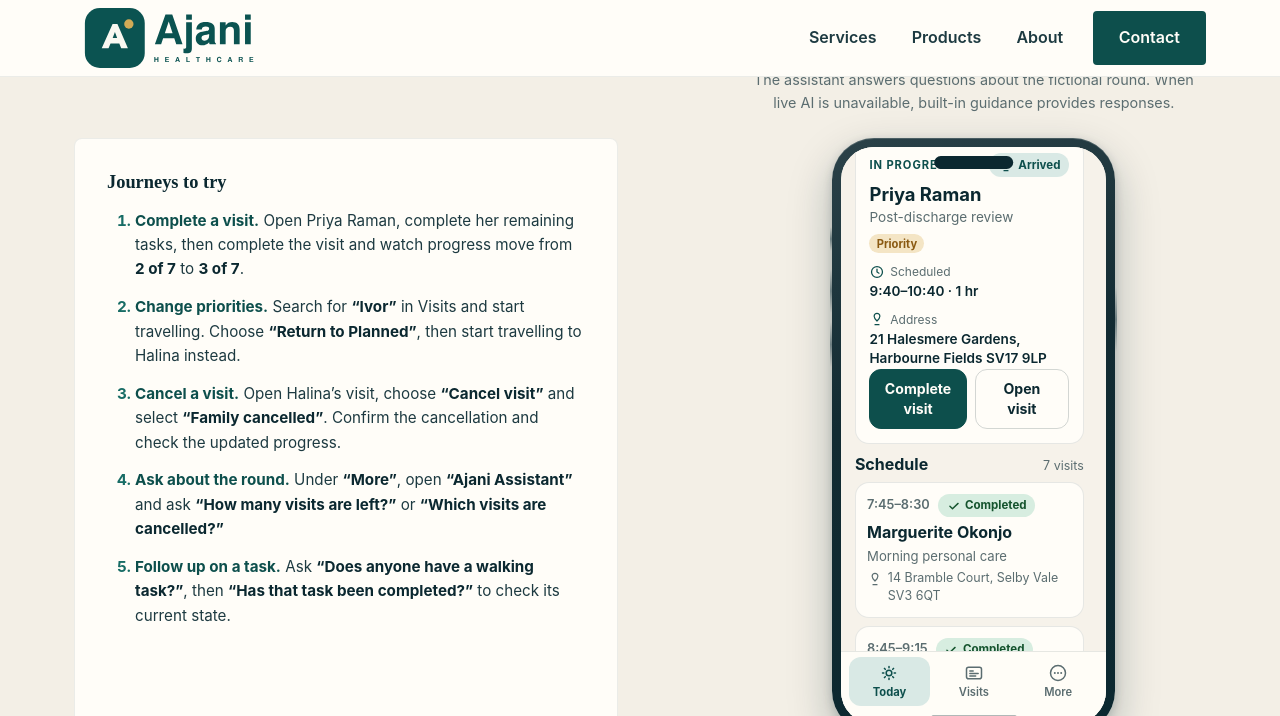
Test case: visit detail › shows the reference, times, travel, location and notes
(page scrolled)
Click the button "Open visit".
click(1022, 399)  # box [975,369,1069,429]
(page scrolled)
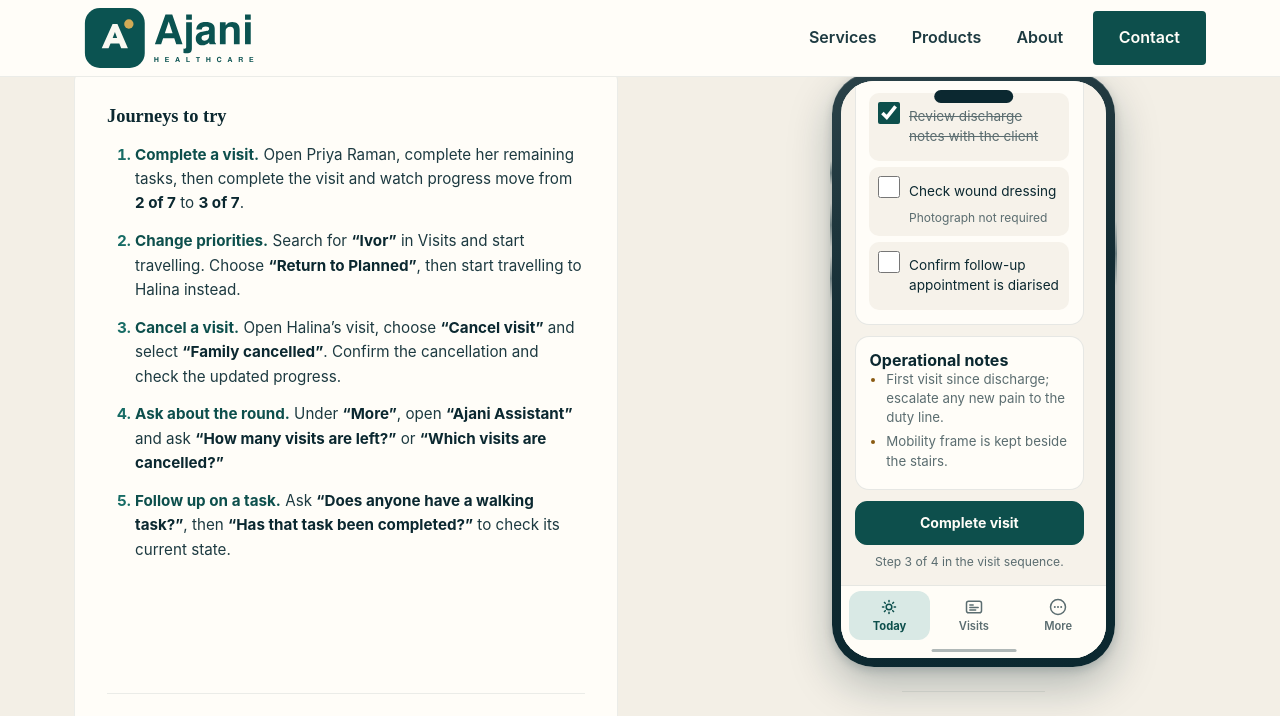
Now the list item "escalate any new pain to the duty line" is shown, box [886,371,1065,425]
